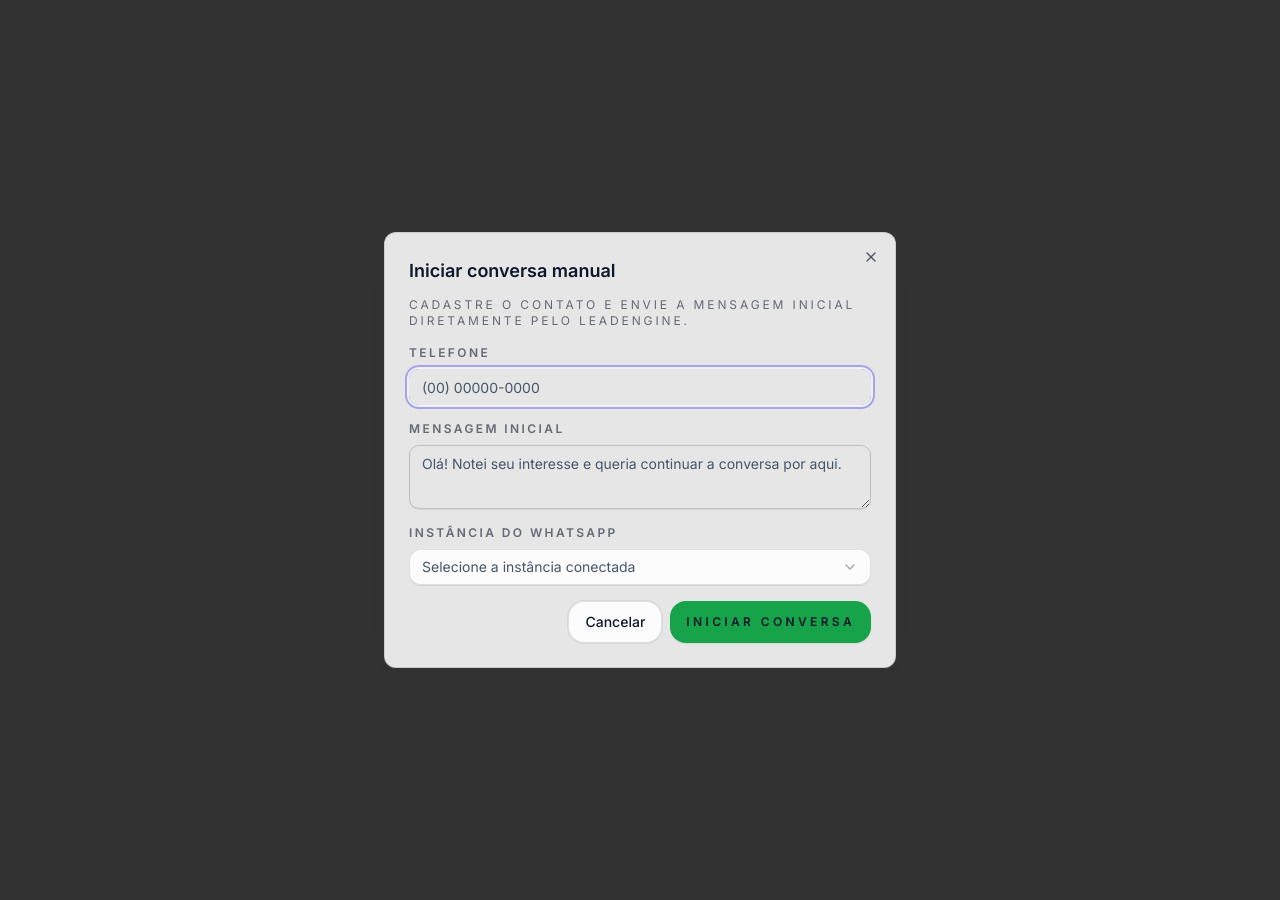
ManualConversationDialog › renderiza apenas instâncias conectadas no seletor
Click the dropdown named "instância do whatsapp".
click(529, 566)  # box top-left (409, 549), bottom-right (871, 585)
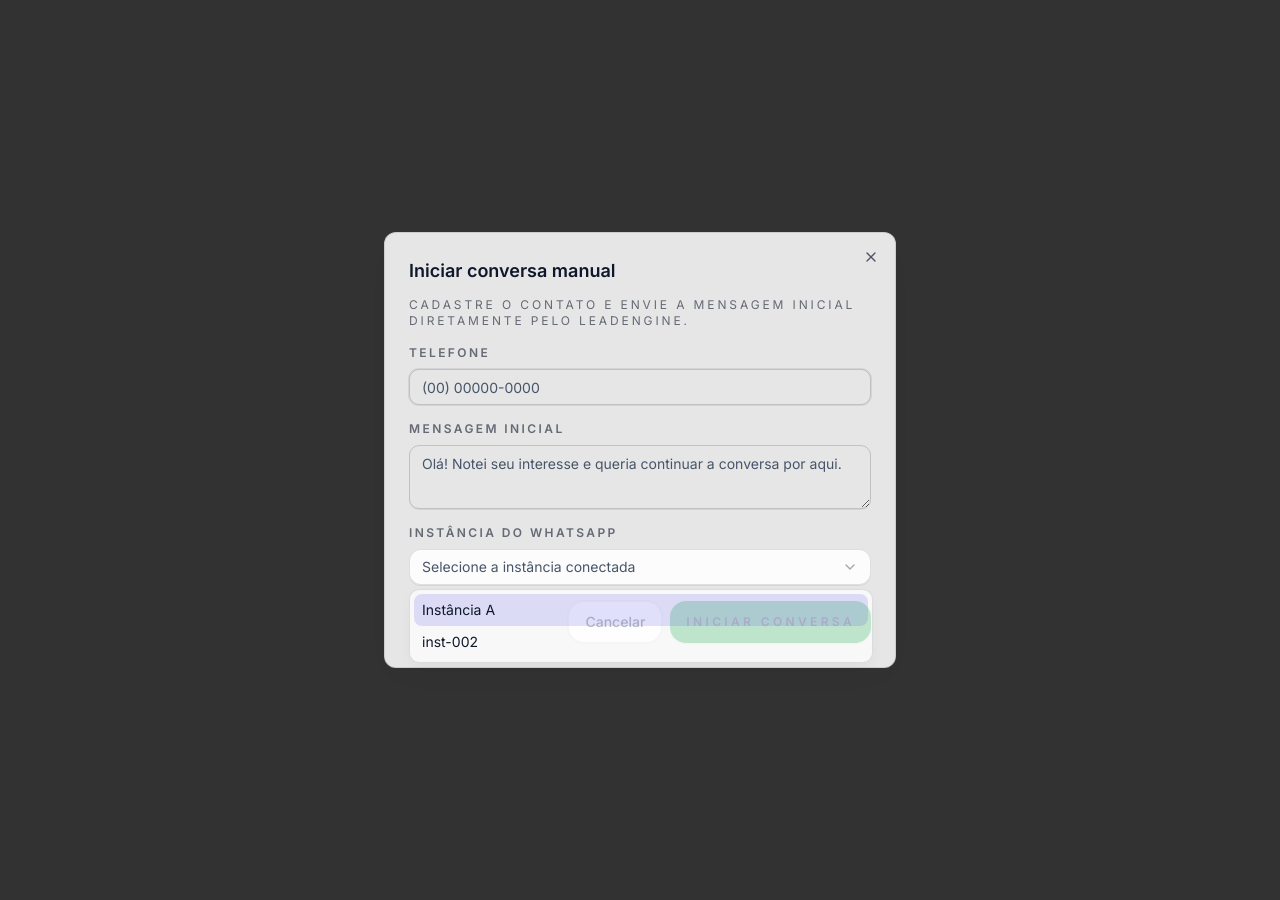
Check: the options read "Instância A", "inst-002", in this order, box top-left (414, 594), bottom-right (868, 626); top-left (422, 633), bottom-right (478, 650)
